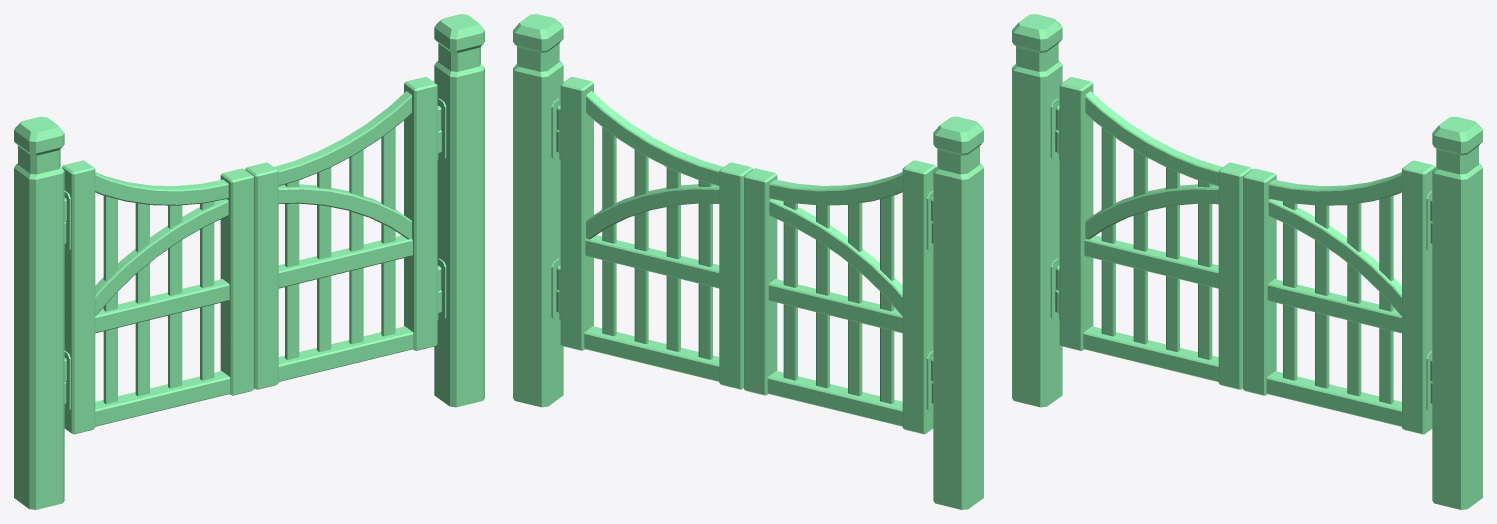
Rendered from Wooden_Gate.FBX.
The picture shows the model from 3 angles, left to right: view 1: azimuth 30°, elevation 25°; view 2: azimuth 150°, elevation 25°; view 3: azimuth 330°, elevation 25°; orthographic projection.
Parts seen in each view (by area): view 1: Wooden_Gate_1, Wooden_Gate_2, Gate_Post_1, Gate_Post_2; view 2: Wooden_Gate_1, Wooden_Gate_2, Gate_Post_1, Gate_Post_2; view 3: Wooden_Gate_2, Wooden_Gate_1, Gate_Post_2, Gate_Post_1.
Part boxes in pixels (x1,y1,x2,y2): Wooden_Gate_1: [62, 160, 254, 434]; Wooden_Gate_2: [245, 77, 441, 389]; Gate_Post_1: [14, 116, 66, 509]; Gate_Post_2: [434, 14, 484, 407]; Wooden_Gate_1: [744, 160, 936, 434]; Wooden_Gate_2: [556, 76, 752, 389]; Gate_Post_1: [931, 116, 983, 509]; Gate_Post_2: [513, 14, 563, 407]; Wooden_Gate_2: [1243, 160, 1435, 434]; Wooden_Gate_1: [1055, 77, 1251, 389]; Gate_Post_2: [1430, 116, 1482, 509]; Gate_Post_1: [1012, 14, 1062, 407].
Bounding box in the file's own units: 324 × 255 × 25.11.
